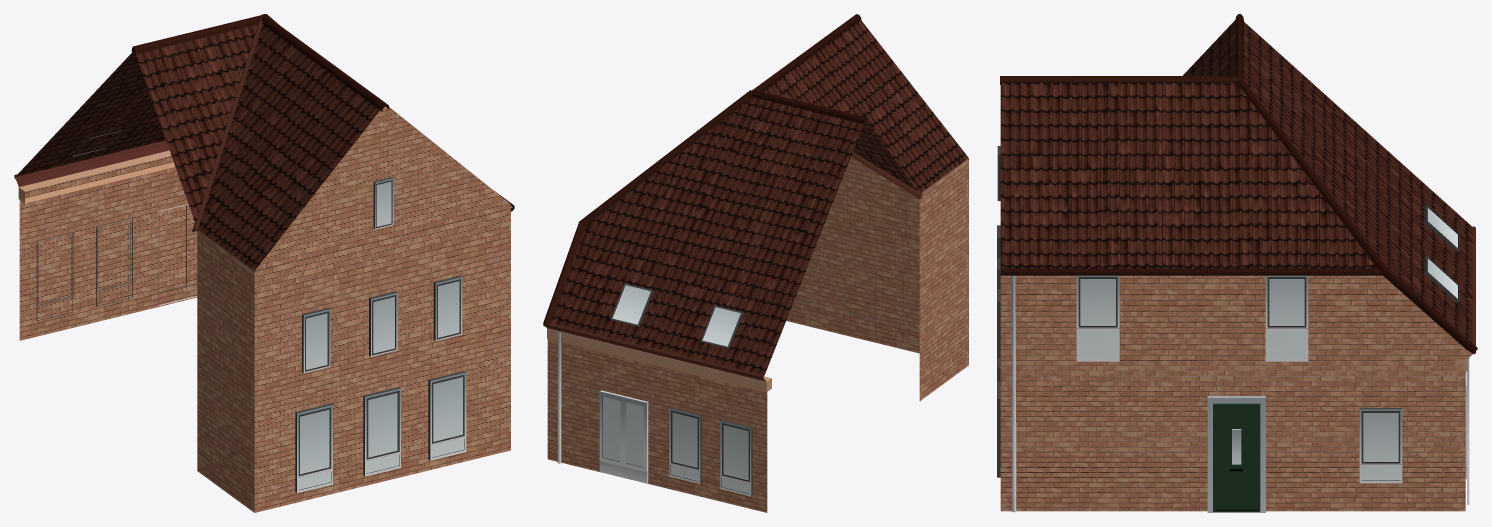
Rendered from It_Dwershus_11_23.fbx.
3 views of the same model, side by side, from view 1: azimuth 30°, elevation 25°; view 2: azimuth 150°, elevation 25°; view 3: azimuth 270°, elevation 25° (orthographic). The views are drawn at different scales.
Parts seen in each view (by area): view 1: It_Dwershus_11_23; view 2: It_Dwershus_11_23; view 3: It_Dwershus_11_23.
Boxes of the visible parts, box(x1,y1,x2,y2) form: It_Dwershus_11_23: box(14, 14, 514, 512); It_Dwershus_11_23: box(543, 14, 968, 512); It_Dwershus_11_23: box(997, 14, 1477, 512).
Size of the model in its own units: 6.74 by 9.15 by 10.67.
